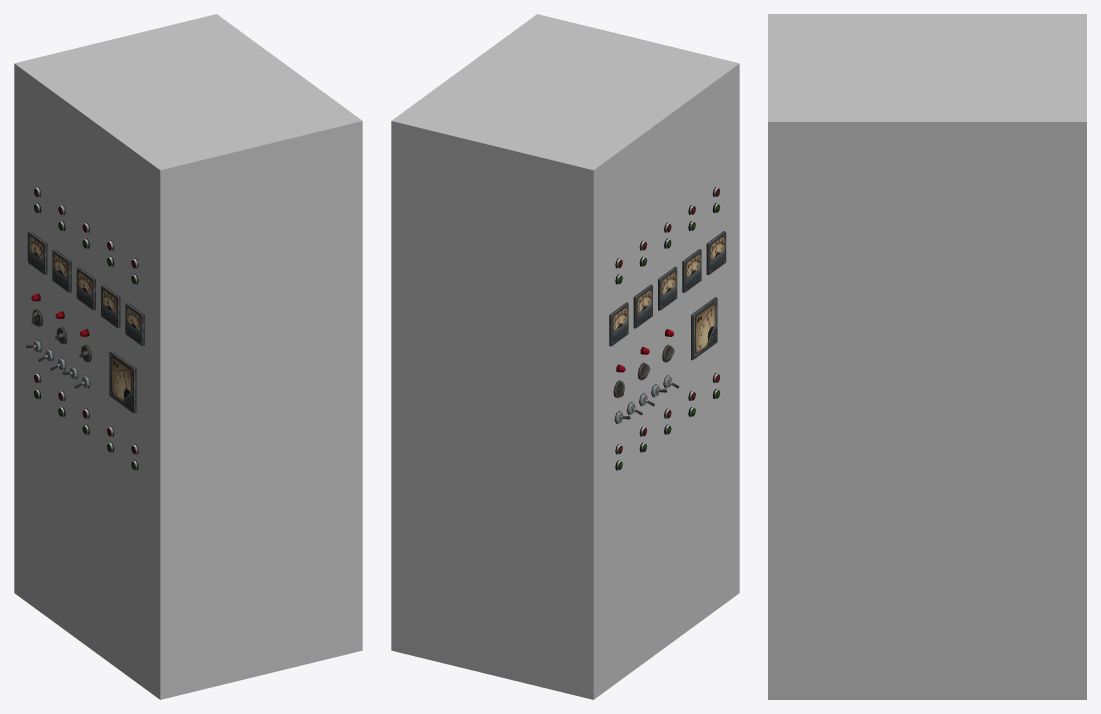
The model's file is auxPanel01_C.FBX.
3 views of the same model, side by side, from view 1: azimuth 30°, elevation 25°; view 2: azimuth 150°, elevation 25°; view 3: azimuth 270°, elevation 25° (orthographic). The views are drawn at different scales.
Visible parts, largest first — view 1: auxPanel01_C, ctrlPanel_gauges, ctrlPanel_buttons; view 2: auxPanel01_C, ctrlPanel_gauges, ctrlPanel_buttons; view 3: auxPanel01_C.
Boxes of the visible parts, x1=… form: auxPanel01_C: x1=14, y1=14, x2=362, y2=699; ctrlPanel_gauges: x1=27, y1=231, x2=144, y2=413; ctrlPanel_buttons: x1=31, y1=187, x2=138, y2=470; auxPanel01_C: x1=391, y1=14, x2=739, y2=699; ctrlPanel_gauges: x1=609, y1=231, x2=726, y2=360; ctrlPanel_buttons: x1=615, y1=187, x2=720, y2=470; auxPanel01_C: x1=768, y1=14, x2=1086, y2=699.
Bounding box in the file's own units: 84.9 × 200 × 100.
